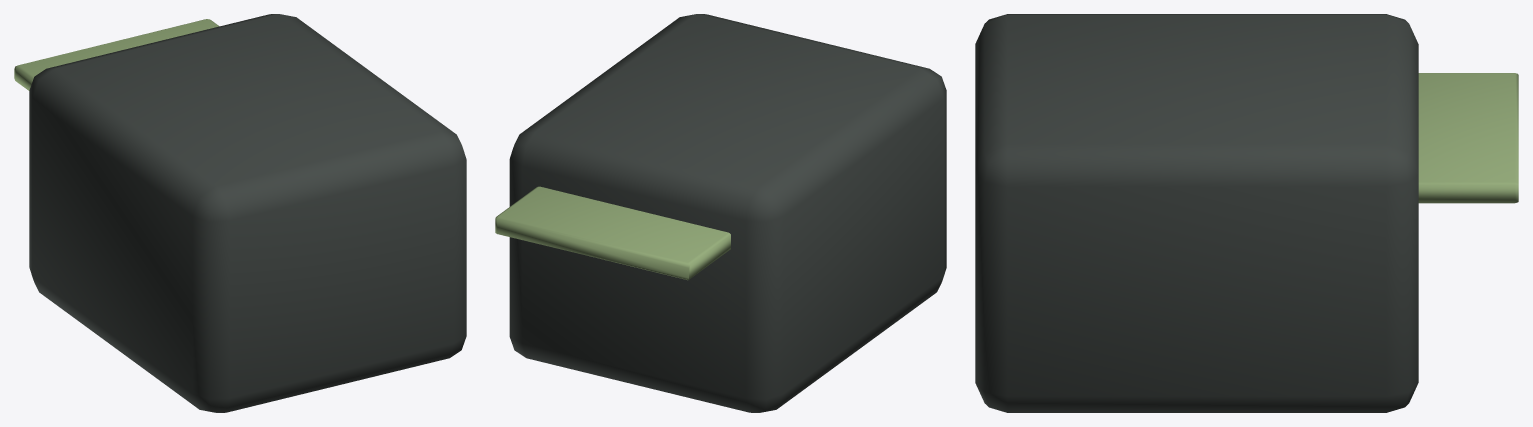
Rendered from equipment_card_terminal.glb.
3 views of the same model, side by side, from view 1: azimuth 30°, elevation 25°; view 2: azimuth 150°, elevation 25°; view 3: azimuth 270°, elevation 25° (orthographic). The views are drawn at different scales.
Visible parts, largest first — view 1: Body, Screen; view 2: Body, Screen; view 3: Body, Screen.
Boxes of the visible parts, x1=… form: Body: x1=29, y1=14, x2=466, y2=412; Screen: x1=14, y1=19, x2=219, y2=90; Body: x1=509, y1=14, x2=946, y2=412; Screen: x1=495, y1=186, x2=730, y2=280; Body: x1=975, y1=14, x2=1418, y2=412; Screen: x1=1418, y1=73, x2=1518, y2=203.
Bounding box in the file's own units: 0.4 × 0.32 × 0.5884.
